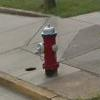Hydrant: (30, 15, 67, 76)
